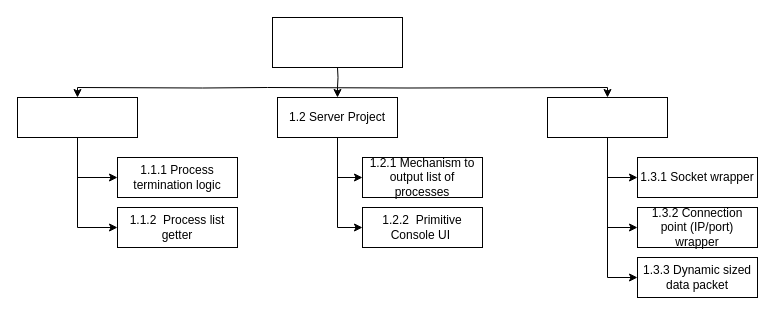
The diagram is 775 pixels wide and 315 high, and some of its shapes have lost their labels. Here are the shapes that lost their labels. From the top down, the box of each, then its label:
(272, 16, 402, 68): 1. Client/Server app to terminate client host processes
(16, 96, 138, 138): 1.1 Client Project
(546, 96, 668, 138): 1.3 Network Project
